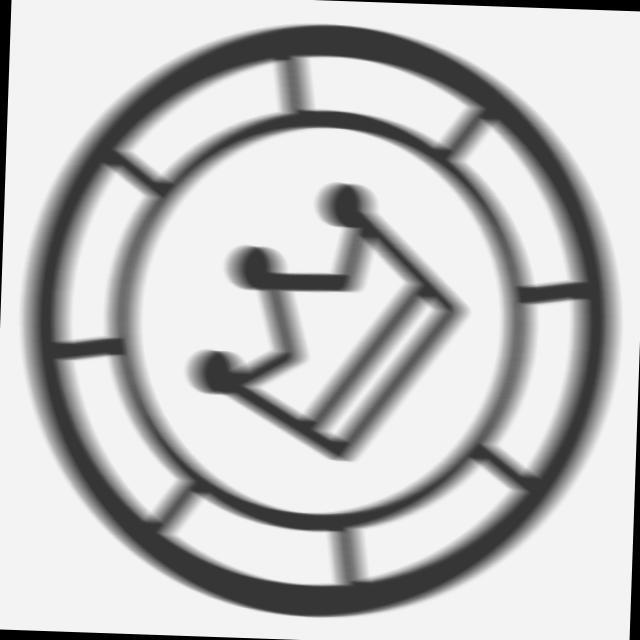coin: (3, 2, 639, 640)
